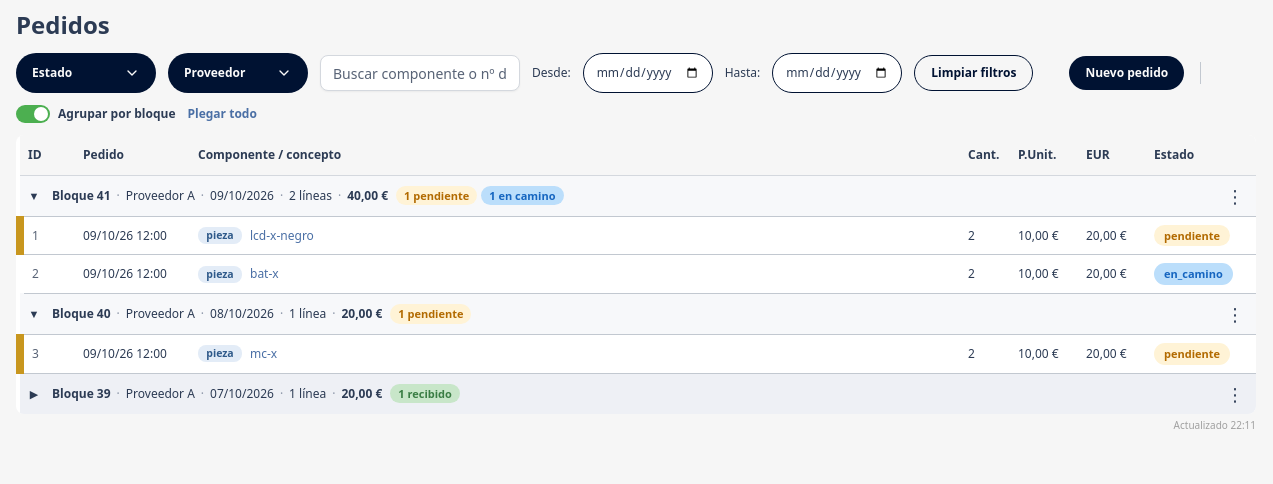
Pedidos agrupados por bloques (0.9.9) › plegar un bloque, «Plegar todo» y «Desplegar todo»
The width and height of the screenshot is (1273, 484).
Expected: the button "lcd-x-negro" is shown, [250,227,314,244]
Click the button named "Plegar bloque 41" at (34, 195), box [24,188,44,203]
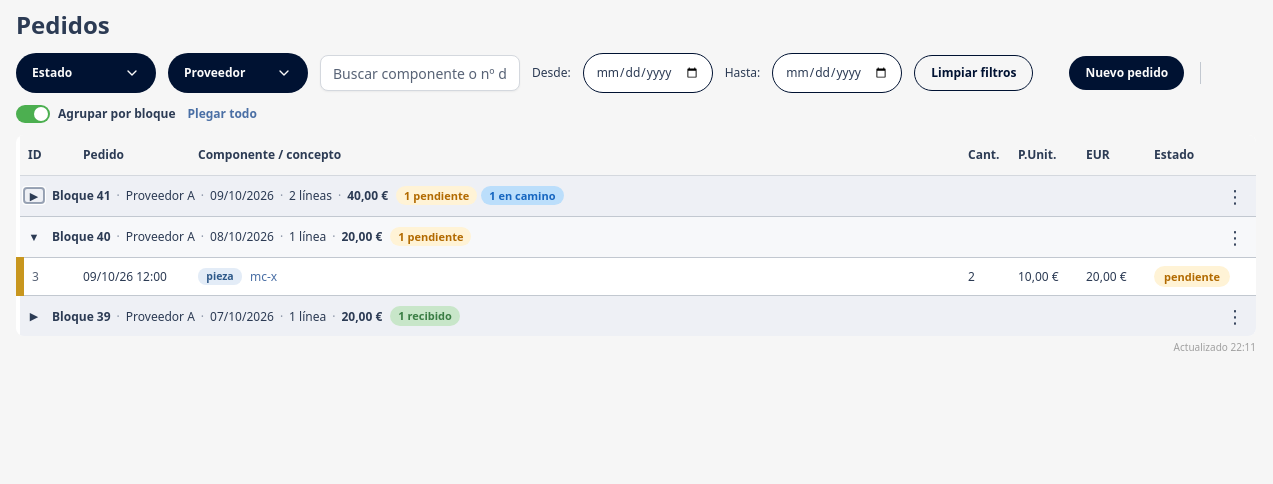
Expected: the button "lcd-x-negro" is gone
Click the button "Plegar todo" at (222, 114), box [188,105,257,123]
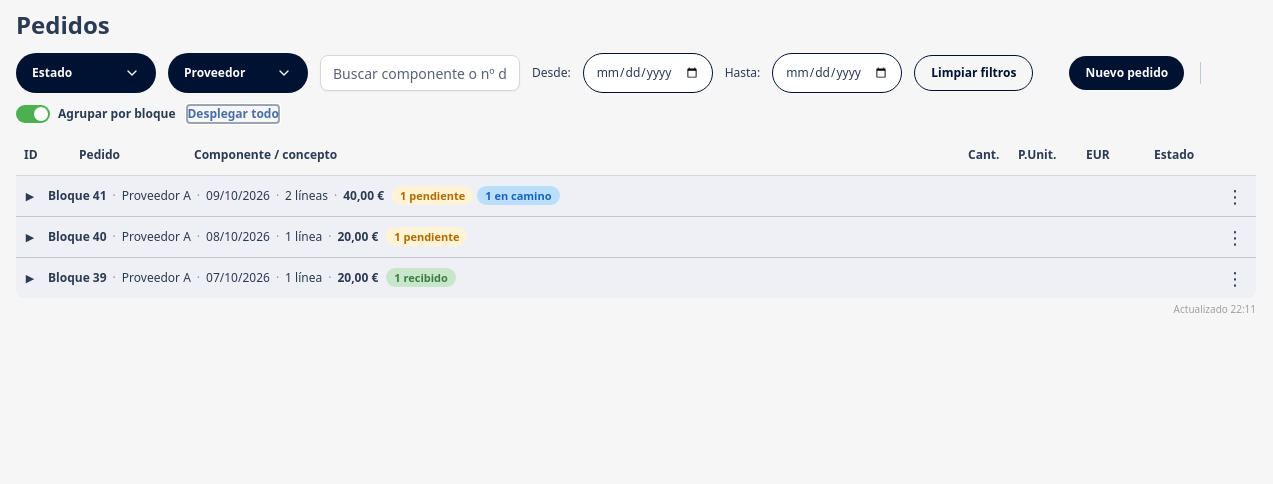
Expected: the button "mc-x" is gone
Click the button "Desplegar todo" at (233, 114), box [188,105,279,123]
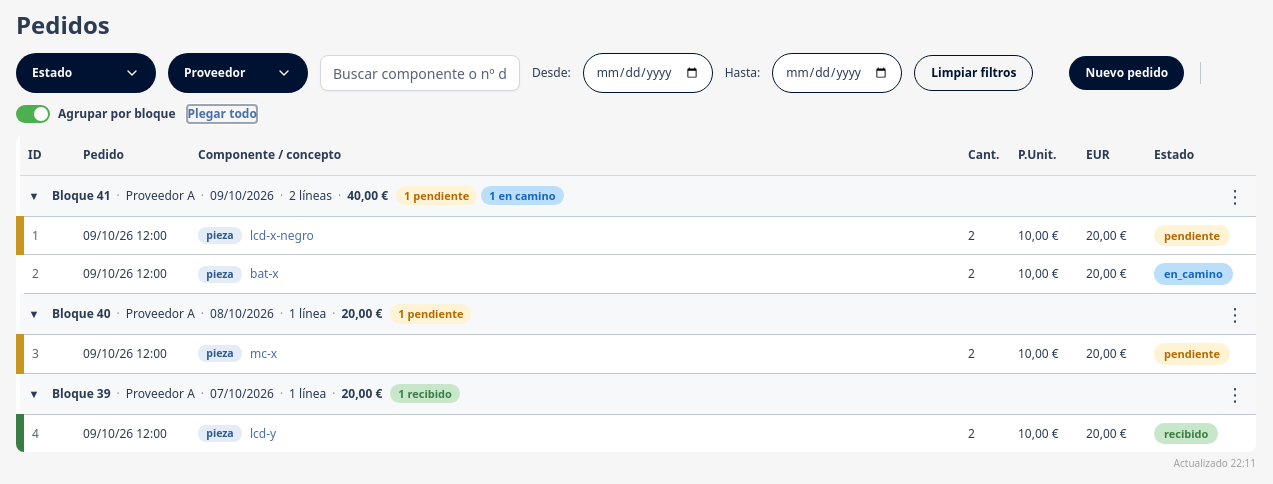
Expected: the button "lcd-y" is shown, [250,425,276,442]
